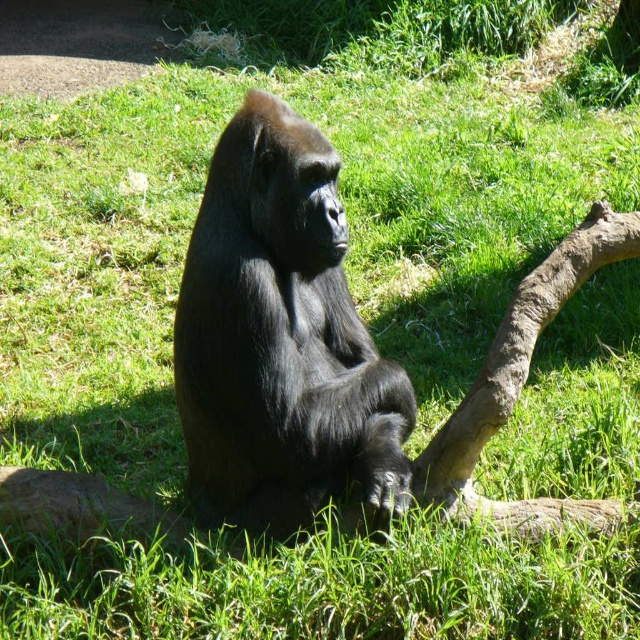Monkey: (171, 84, 419, 545)
